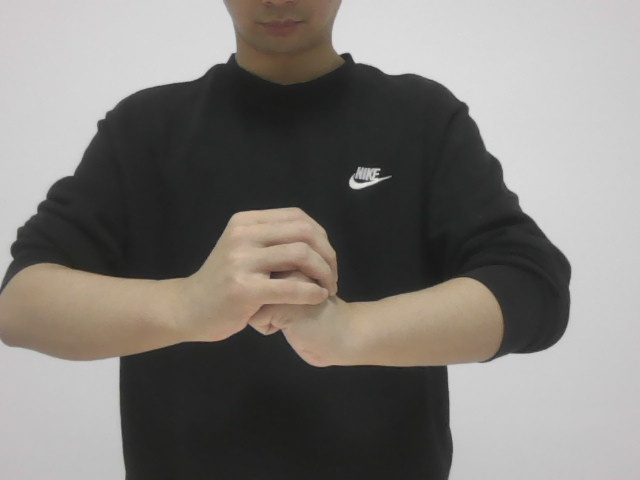wish: (186, 198, 358, 368)
